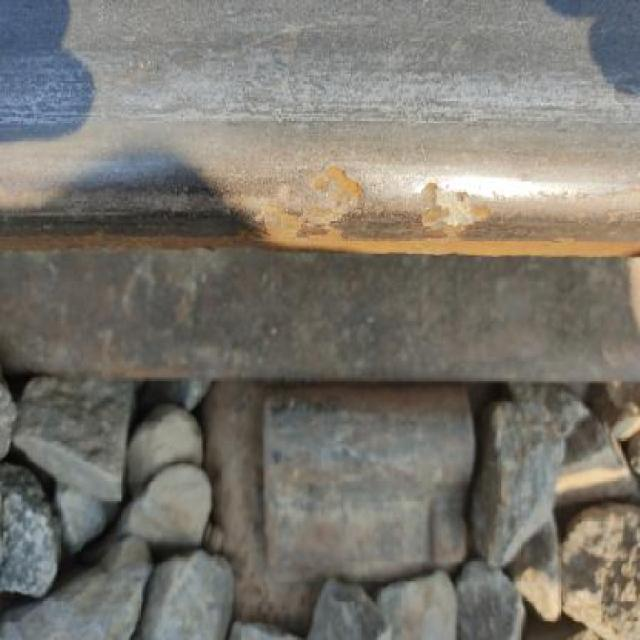defective: (3, 9, 640, 464)
